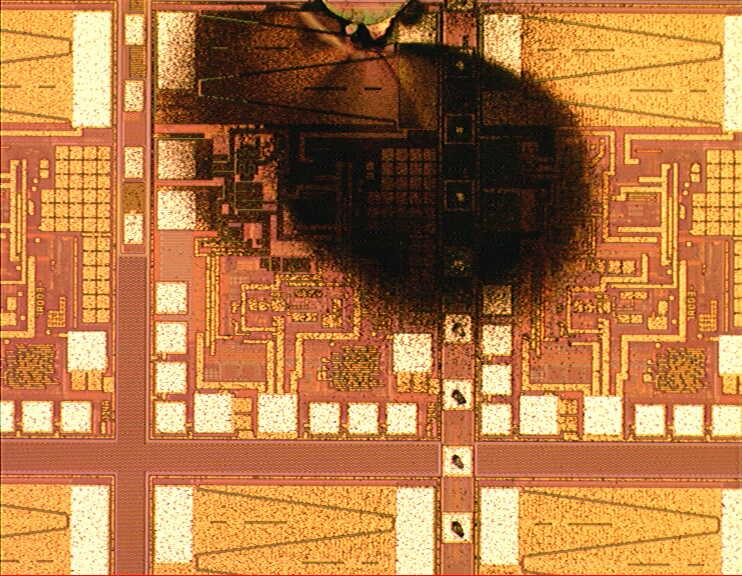PO CONTAMINATION: (126, 1, 628, 359)
